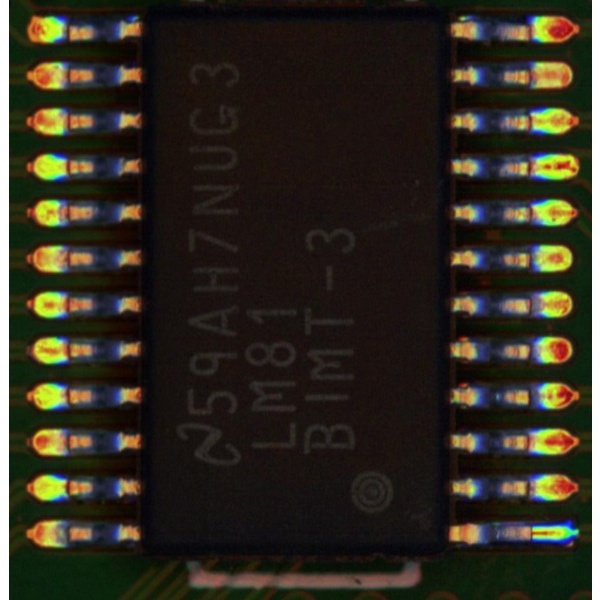Bad_podu: (521, 160, 551, 175), (514, 115, 544, 128), (54, 342, 79, 357), (55, 433, 77, 450), (512, 72, 543, 83), (53, 205, 74, 221), (56, 297, 77, 313), (55, 249, 73, 266), (524, 528, 545, 540)
